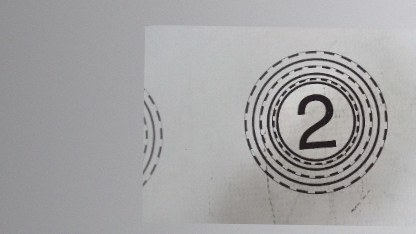2r: (238, 51, 388, 195)
